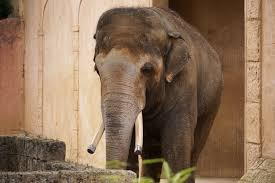elephant: (87, 7, 220, 172)
